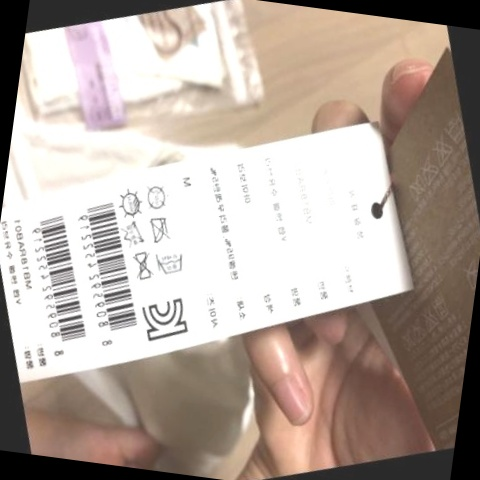DN_dry_clean: (141, 179, 173, 213)
DN_iron: (143, 212, 176, 246)
DN_wring: (124, 250, 154, 282)
dry_flat_in_shade: (116, 184, 144, 216)
hand_wash: (150, 247, 187, 278)
non_chlorine_bleach: (115, 219, 143, 248)
